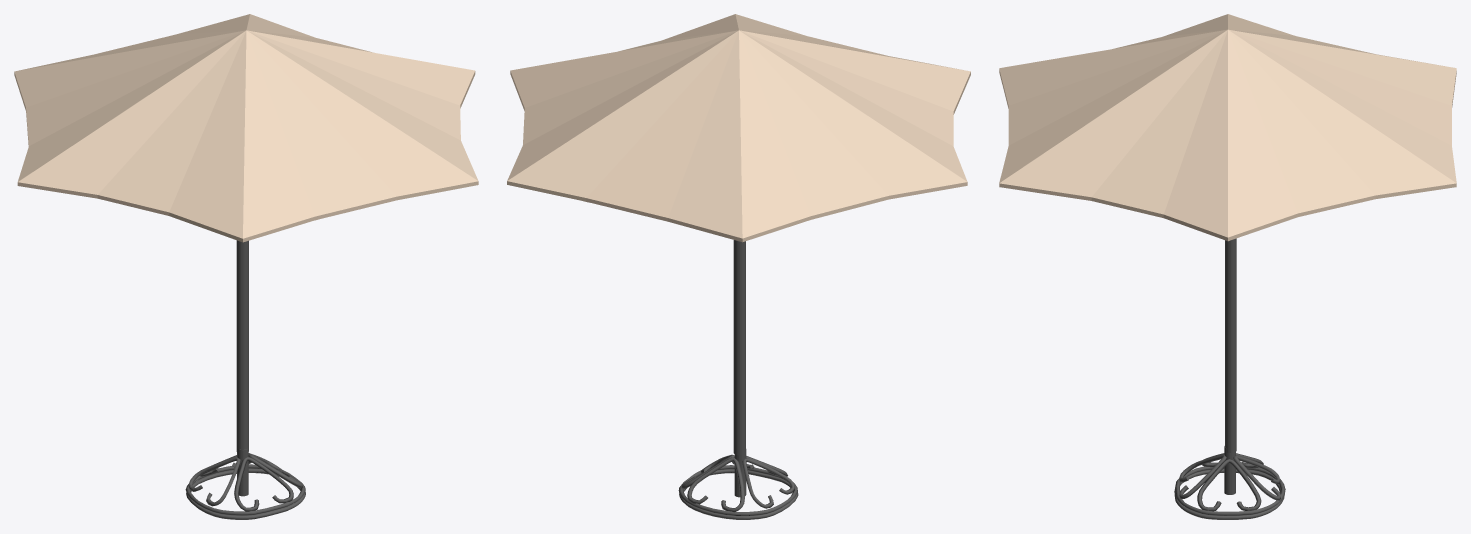
Rendered from sweethome3d-contributions-garden-umbrella-209.glb.
The picture shows the model from 3 angles, left to right: view 1: azimuth 30°, elevation 25°; view 2: azimuth 150°, elevation 25°; view 3: azimuth 270°, elevation 25°; orthographic projection.
Visible parts, largest first — view 1: Umbrella, PolyMesh_9, Tube_2_1, Tube_2, Tube_1_2, Tube_1_3; view 2: Umbrella, PolyMesh_9, Tube_2, Tube_2_1, Tube_1_1, Tube_1_3; view 3: Umbrella, PolyMesh_9, Tube_2, Tube_1, Tube_2_1, Tube_1_1, Tube_1_2.
Part boxes in pixels (x1=…): Umbrella: x1=14, y1=14, x2=478, y2=242; PolyMesh_9: x1=236, y1=240, x2=248, y2=452; Tube_2_1: x1=186, y1=468, x2=305, y2=519; Tube_2: x1=185, y1=464, x2=305, y2=515; Tube_1_2: x1=234, y1=457, x2=293, y2=511; Tube_1_3: x1=188, y1=457, x2=240, y2=506; Umbrella: x1=507, y1=14, x2=970, y2=242; PolyMesh_9: x1=733, y1=240, x2=745, y2=455; Tube_2: x1=678, y1=465, x2=797, y2=516; Tube_2_1: x1=679, y1=469, x2=798, y2=519; Tube_1_1: x1=687, y1=457, x2=744, y2=512; Tube_1_3: x1=742, y1=458, x2=794, y2=508; Umbrella: x1=999, y1=14, x2=1456, y2=241; PolyMesh_9: x1=1225, y1=238, x2=1236, y2=452; Tube_2: x1=1175, y1=466, x2=1285, y2=515; Tube_1: x1=1197, y1=458, x2=1261, y2=511; Tube_2_1: x1=1174, y1=469, x2=1284, y2=519; Tube_1_1: x1=1233, y1=456, x2=1280, y2=500; Tube_1_2: x1=1179, y1=454, x2=1226, y2=498.
Size of the model in its own units: 21.91 by 21.34 by 18.95.
